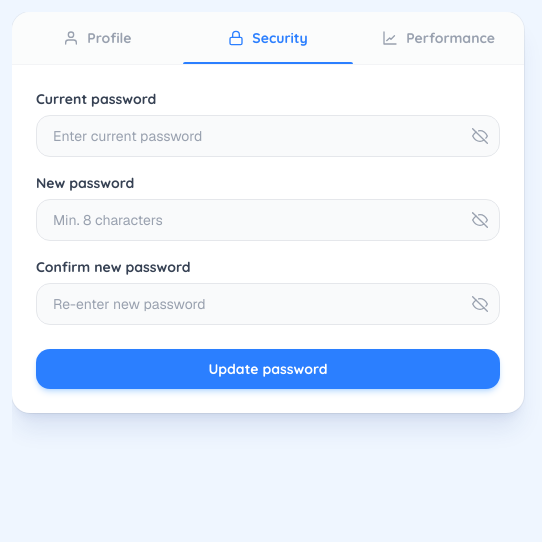
Test: AccountCard – security tab › shows server error message when password change API fails
Type "wrongPass1!" into the password field labelled "Current password" at (268, 136), box [36,115,500,157]
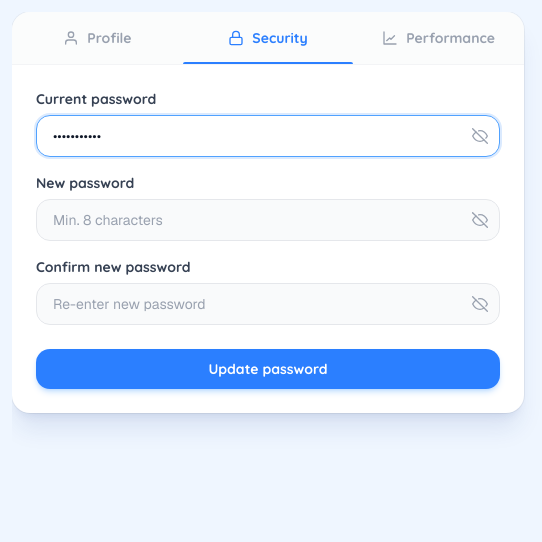
Type "NewPass123!" into the password field labelled "New password" at (268, 220), box [36,199,500,241]
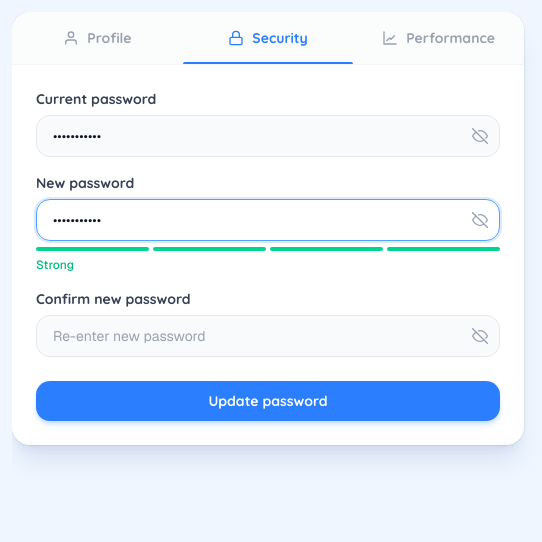
Type "NewPass123!" into the password field labelled "Confirm new password" at (268, 336), box [36,315,500,357]
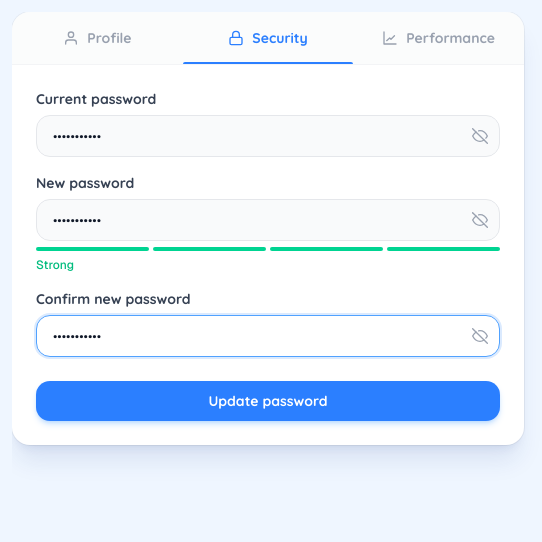
Click the button "Update password" at (268, 401), box [36,381,500,421]
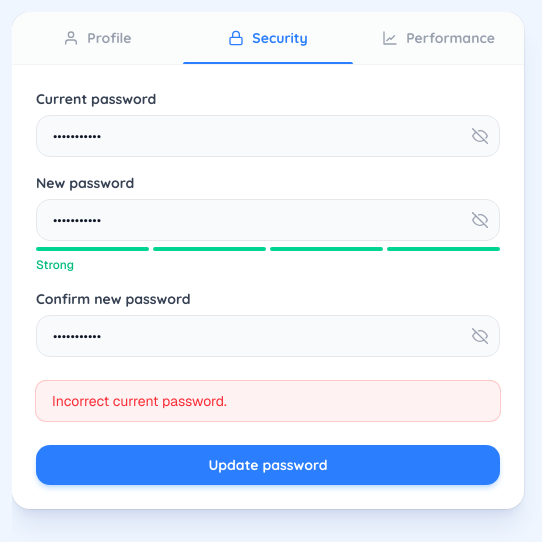
Expected: the text "Incorrect current password." is shown, [36,381,500,421]
